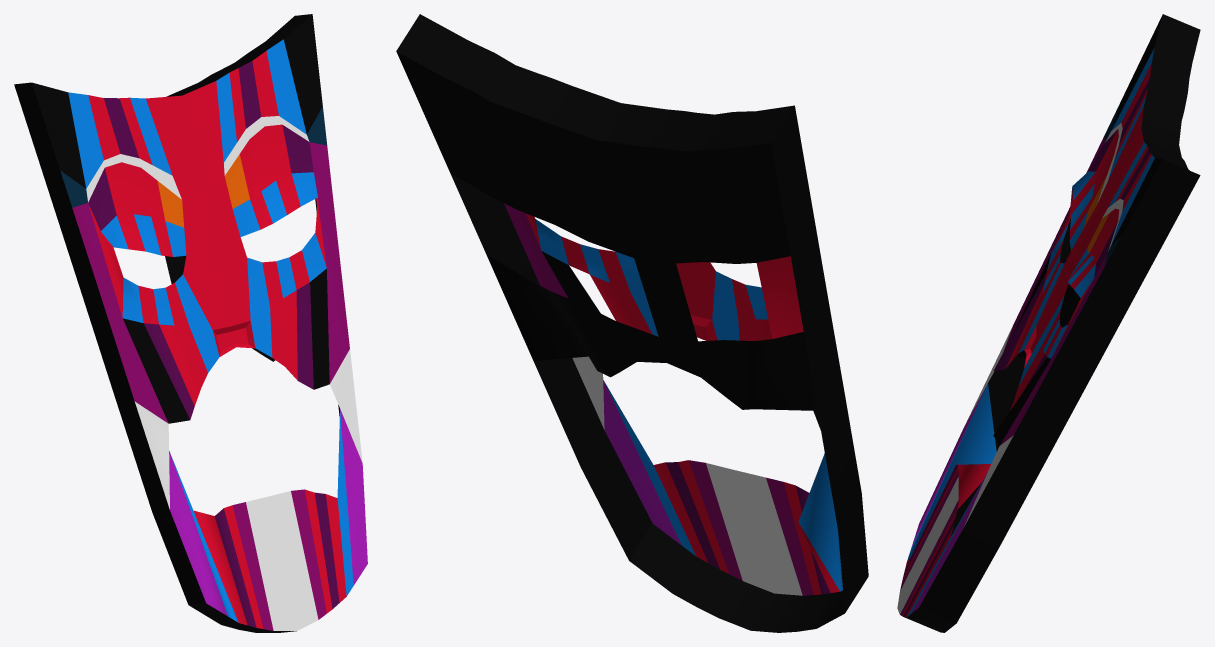
The model's file is Mask_2.fbx.
The picture shows the model from 3 angles, left to right: view 1: azimuth 30°, elevation 25°; view 2: azimuth 150°, elevation 25°; view 3: azimuth 270°, elevation 25°; orthographic projection. The views are drawn at different scales.
Parts seen in each view (by area): view 1: Mask2; view 2: Mask2; view 3: Mask2.
Boxes of the visible parts, x1,y1,x2,y2 form: Mask2: (14, 14, 367, 632); Mask2: (396, 14, 868, 632); Mask2: (897, 14, 1200, 632).
Size of the model in its own units: 2.85 by 4.91 by 2.51.
